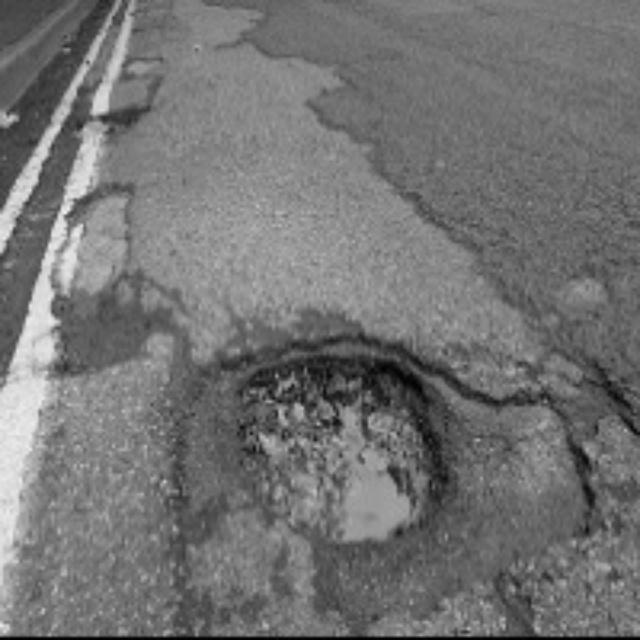Pothole: (260, 329, 455, 552)
Surface Erosion: (275, 19, 640, 504), (43, 2, 165, 394)
